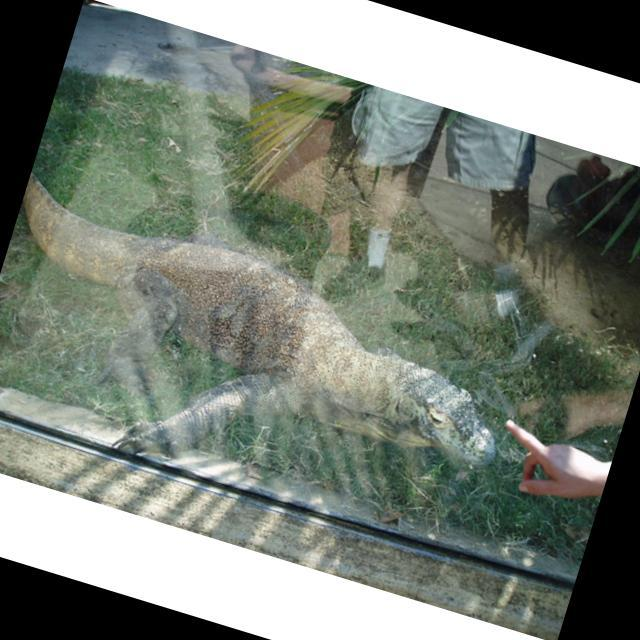KomodoDragon: (0, 174, 533, 553)
